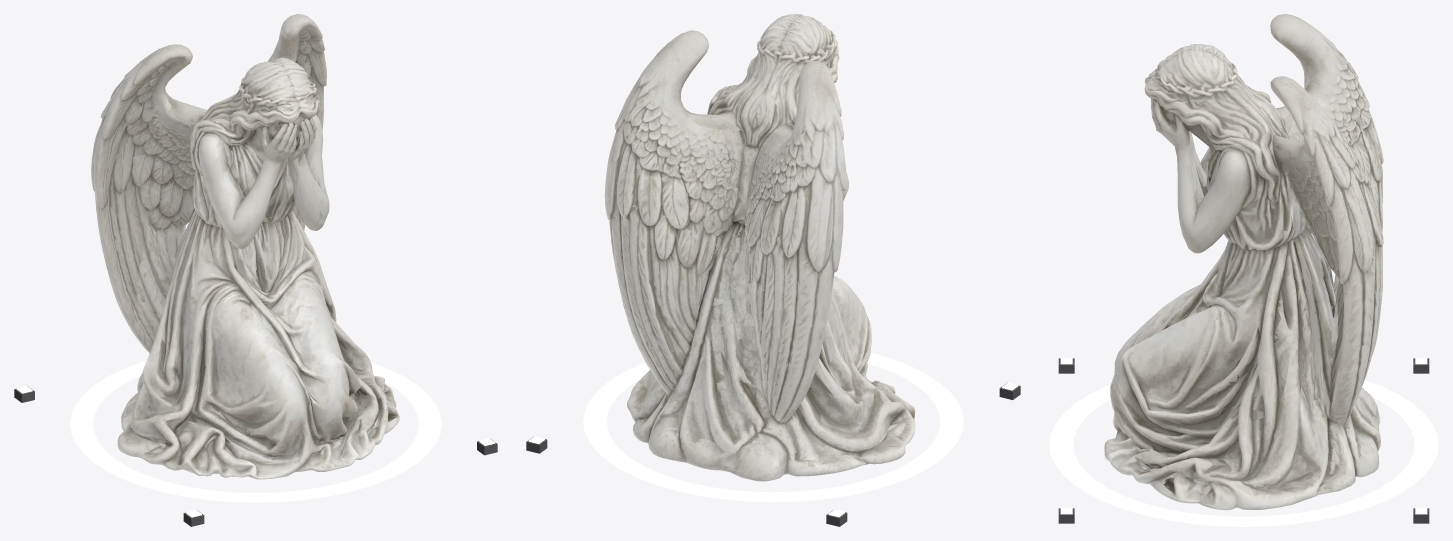
The model's file is m-angel-grieving.glb.
The picture shows the model from 3 angles, left to right: view 1: azimuth 30°, elevation 25°; view 2: azimuth 150°, elevation 25°; view 3: azimuth 270°, elevation 25°; orthographic projection. The views are drawn at different scales.
Parts seen in each view (by area): view 1: Statue, Uplight; view 2: Statue, Uplight; view 3: Statue, Uplight.
Part boxes in pixels (x1,y1,x2,y2): Statue: (91, 14, 399, 479); Uplight: (14, 360, 497, 526); Statue: (604, 14, 915, 481); Uplight: (526, 353, 1020, 526); Statue: (1104, 14, 1383, 510); Uplight: (1049, 358, 1438, 526).
Size of the model in its own units: 8.87 by 10 by 8.87.
3 materials, 1 textured.
